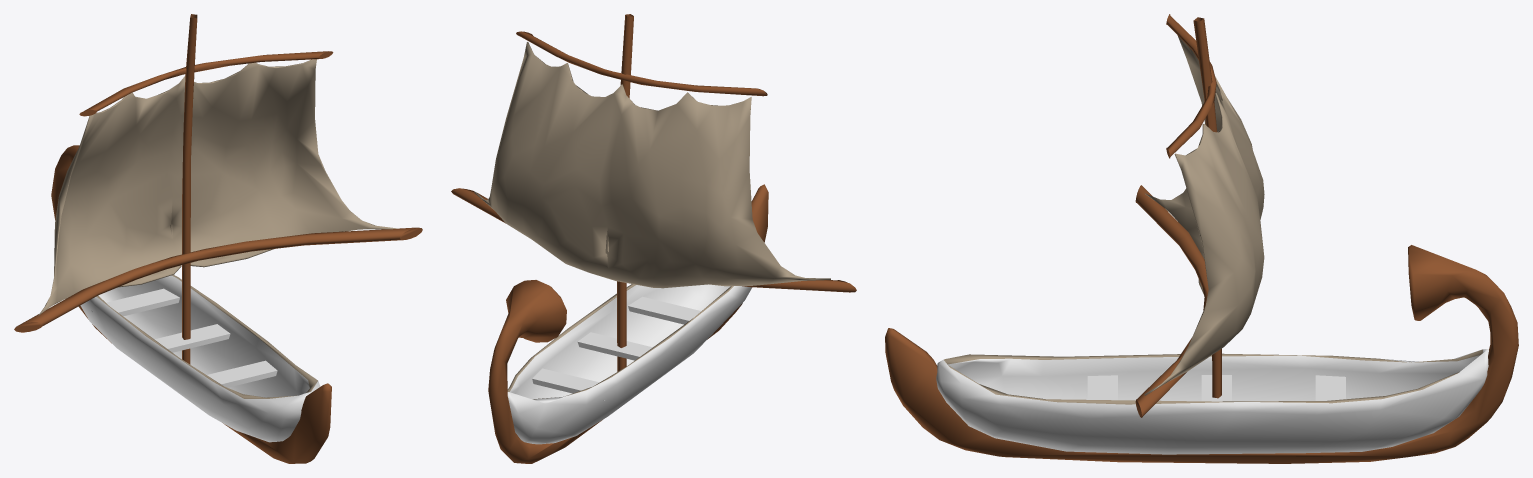
The model's file is Canoa2.fbx.
3 views of the same model, side by side, from view 1: azimuth 30°, elevation 25°; view 2: azimuth 150°, elevation 25°; view 3: azimuth 270°, elevation 25° (orthographic). The views are drawn at different scales.
Parts seen in each view (by area): view 1: NurbsPath.002; view 2: NurbsPath.002; view 3: NurbsPath.002.
Part boxes in pixels (x1,y1,x2,y2): NurbsPath.002: [14, 14, 422, 463]; NurbsPath.002: [451, 14, 856, 463]; NurbsPath.002: [885, 14, 1518, 463].
Size of the model in its own units: 1455 by 1317 by 1698.
